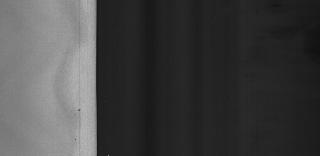oil spot: (70, 107, 84, 117), (72, 130, 80, 144)
